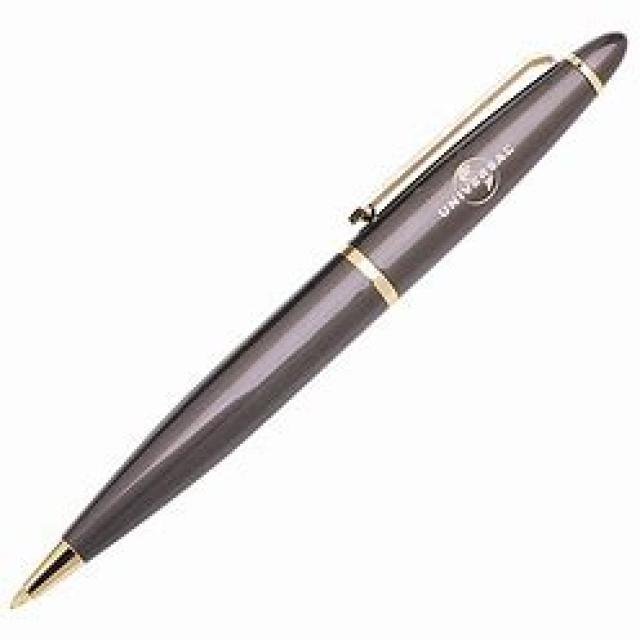pen: (9, 28, 632, 610)
